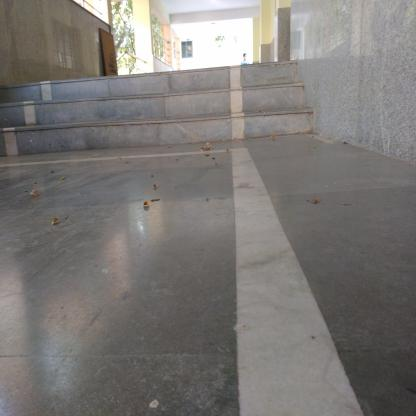stairs: (23, 74, 279, 147)
